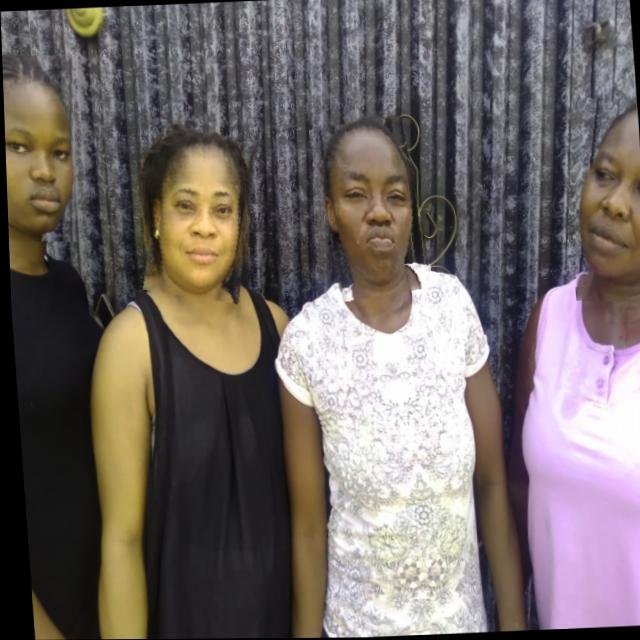happy: (138, 129, 259, 304)
sad: (312, 116, 427, 300), (563, 96, 640, 304), (2, 52, 83, 243)
